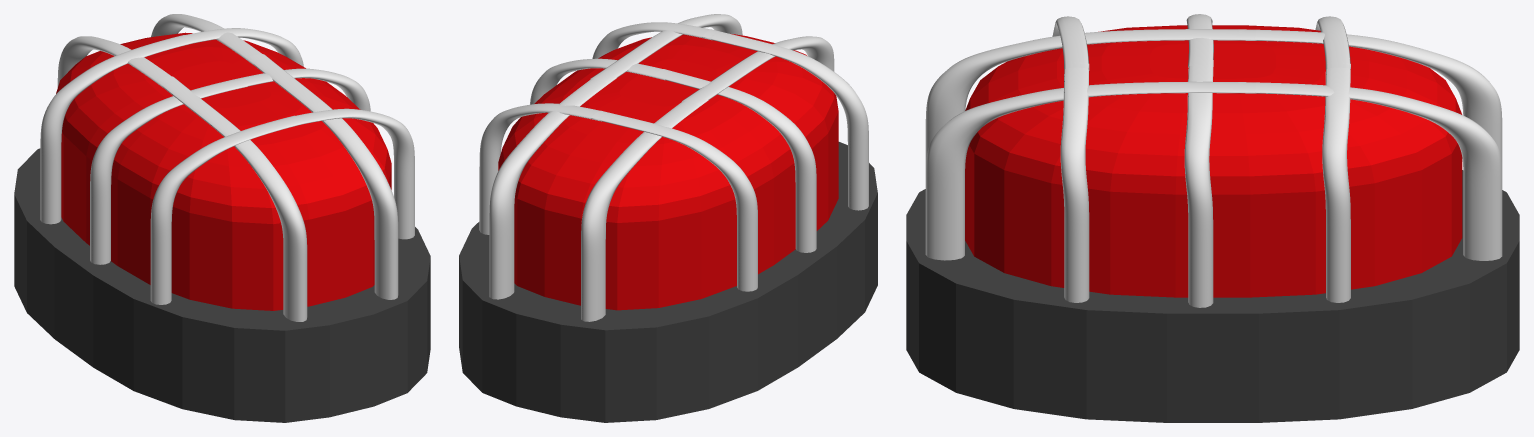
Rendered from alarm.fbx.
The picture shows the model from 3 angles, left to right: view 1: azimuth 30°, elevation 25°; view 2: azimuth 150°, elevation 25°; view 3: azimuth 270°, elevation 25°; orthographic projection. The views are drawn at different scales.
Parts seen in each view (by area): view 1: Cube, Cube.001, NurbsPath.008, NurbsPath.007, NurbsPath, NurbsPath.004, NurbsPath.003, NurbsPath.001, NurbsPath.006, NurbsPath.009, NurbsPath.002, NurbsPath.005; view 2: Cube, Cube.001, NurbsPath.009, NurbsPath.006, NurbsPath, NurbsPath.004, NurbsPath.003, NurbsPath.005, NurbsPath.007, NurbsPath.008, NurbsPath.002, NurbsPath.001; view 3: Cube, Cube.001, NurbsPath.008, NurbsPath.009, NurbsPath.001, NurbsPath.007, NurbsPath.002, NurbsPath.005, NurbsPath.006, NurbsPath, NurbsPath.004, NurbsPath.003.
Boxes of the visible parts, x1,y1,x2,y2 form: Cube: (56,32,391,310); Cube.001: (14,148,430,422); NurbsPath.008: (247,54,398,299); NurbsPath.007: (156,76,307,321); NurbsPath: (150,115,304,304); NurbsPath.004: (40,35,193,224); NurbsPath.003: (90,78,247,264); NurbsPath.001: (286,108,414,239); NurbsPath.006: (57,36,175,87); NurbsPath.009: (151,14,262,64); NurbsPath.002: (226,68,370,111); NurbsPath.005: (175,28,303,66); Cube: (498,33,838,310); Cube.001: (459,142,877,422); NurbsPath.009: (489,74,616,299); NurbsPath.006: (581,97,708,321); NurbsPath: (702,29,868,210); NurbsPath.004: (591,110,757,291); NurbsPath.003: (654,69,816,252); NurbsPath.005: (479,103,605,234); NurbsPath.007: (682,36,834,104); NurbsPath.008: (590,14,742,82); NurbsPath.002: (530,58,668,104); NurbsPath.001: (592,22,718,58); Cube: (965,25,1462,297); Cube.001: (906,170,1519,422); NurbsPath.008: (925,81,1256,260); NurbsPath.009: (1238,82,1502,260); NurbsPath.001: (1060,62,1089,302); NurbsPath.007: (925,29,1256,171); NurbsPath.002: (1184,58,1213,307); NurbsPath.005: (1322,62,1350,302); NurbsPath.006: (1238,29,1502,169); NurbsPath: (1052,16,1088,69); NurbsPath.004: (1315,16,1350,69); NurbsPath.003: (1186,14,1213,67).
Bounding box in the file's own units: 260 × 198 × 392.
